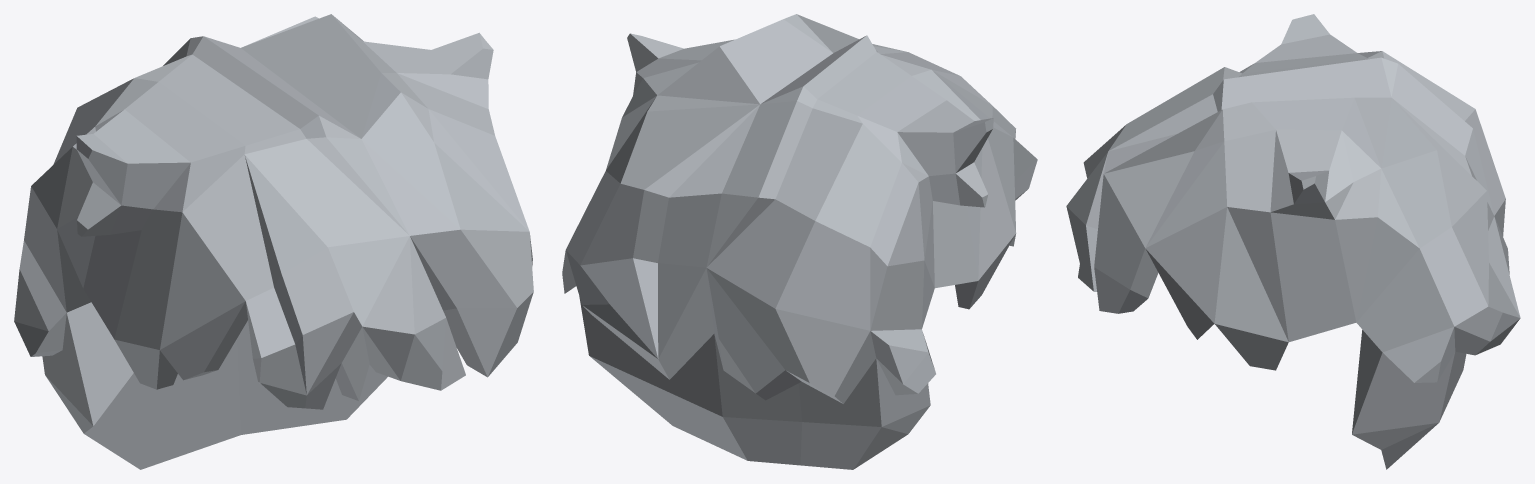
Rendered from SM_Chr_Attach_Hair_08.fbx.
3 views of the same model, side by side, from view 1: azimuth 30°, elevation 25°; view 2: azimuth 150°, elevation 25°; view 3: azimuth 270°, elevation 25° (orthographic). The views are drawn at different scales.
Visible parts, largest first — view 1: SM_Chr_Attach_Hair_08; view 2: SM_Chr_Attach_Hair_08; view 3: SM_Chr_Attach_Hair_08.
Part boxes in pixels (x1,y1,x2,y2): SM_Chr_Attach_Hair_08: (14, 14, 533, 469); SM_Chr_Attach_Hair_08: (562, 14, 1037, 469); SM_Chr_Attach_Hair_08: (1066, 14, 1520, 469).
Size of the model in its own units: 29.75 by 29.58 by 33.82.
